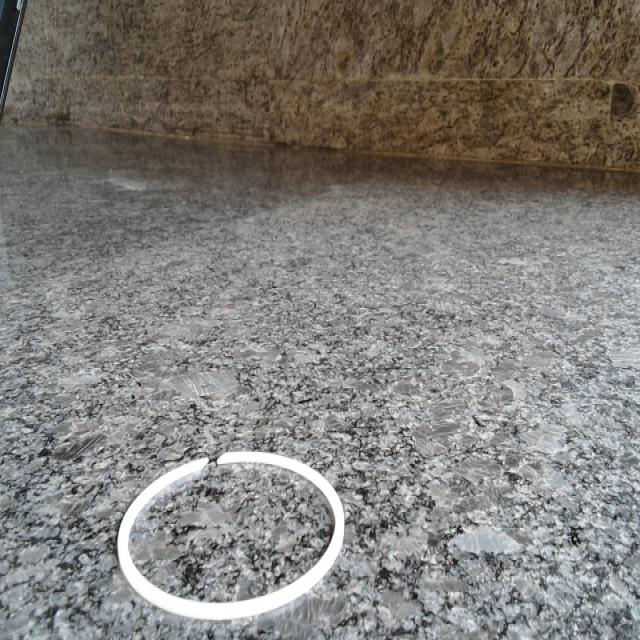white-ring: (119, 452, 344, 620)
